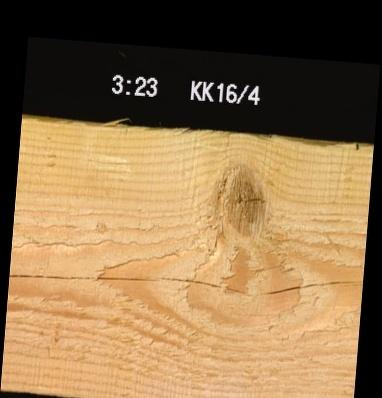sound_knot: (212, 160, 267, 237)
split: (8, 263, 361, 294), (244, 257, 295, 273)
wave: (19, 119, 210, 144), (267, 138, 371, 154)
